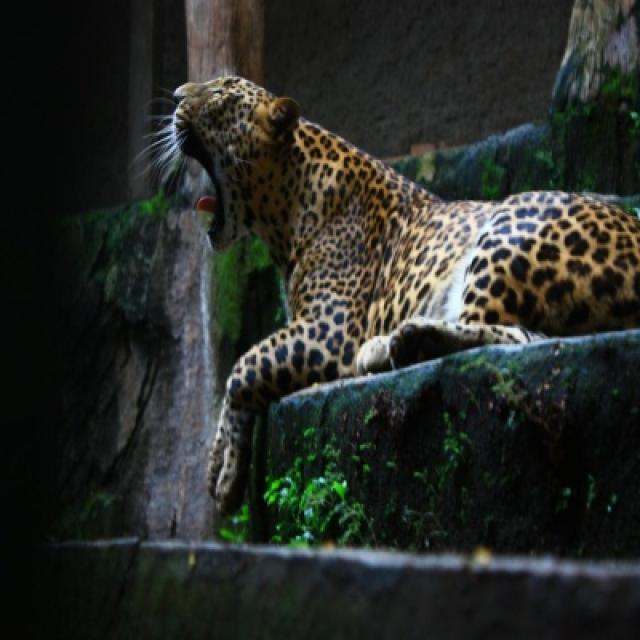Jaguar: (155, 77, 638, 517)
